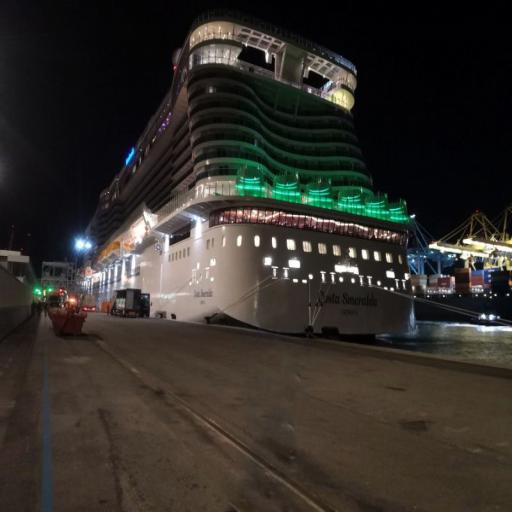cruises: (75, 24, 437, 342)
